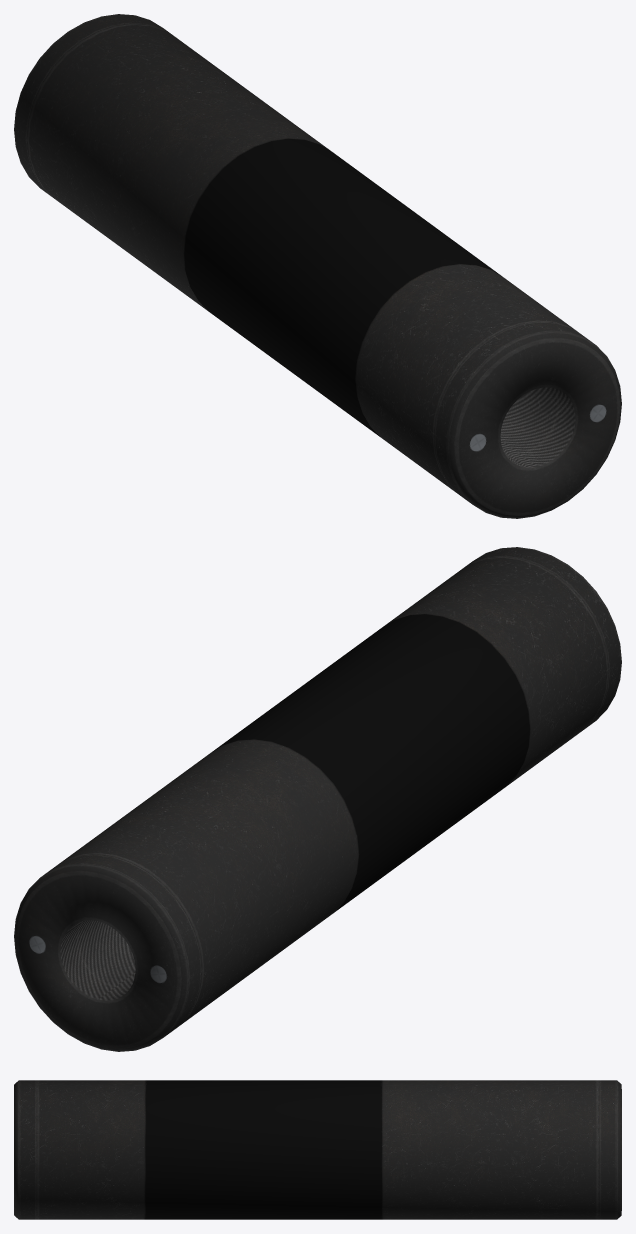
The model's file is PistolSupressor.fbx.
The picture shows the model from 3 angles, top to bottom: view 1: azimuth 30°, elevation 25°; view 2: azimuth 150°, elevation 25°; view 3: azimuth 270°, elevation 25°; orthographic projection. The views are drawn at different scales.
Visible parts, largest first — view 1: MD3_low; view 2: MD3_low; view 3: MD3_low.
Boxes of the visible parts, left/top/right/bottom form: MD3_low: left=14, top=14, right=621, bottom=518; MD3_low: left=14, top=547, right=621, bottom=1051; MD3_low: left=14, top=1080, right=621, bottom=1219.
Size of the model in its own units: 601 by 601 by 2616.
